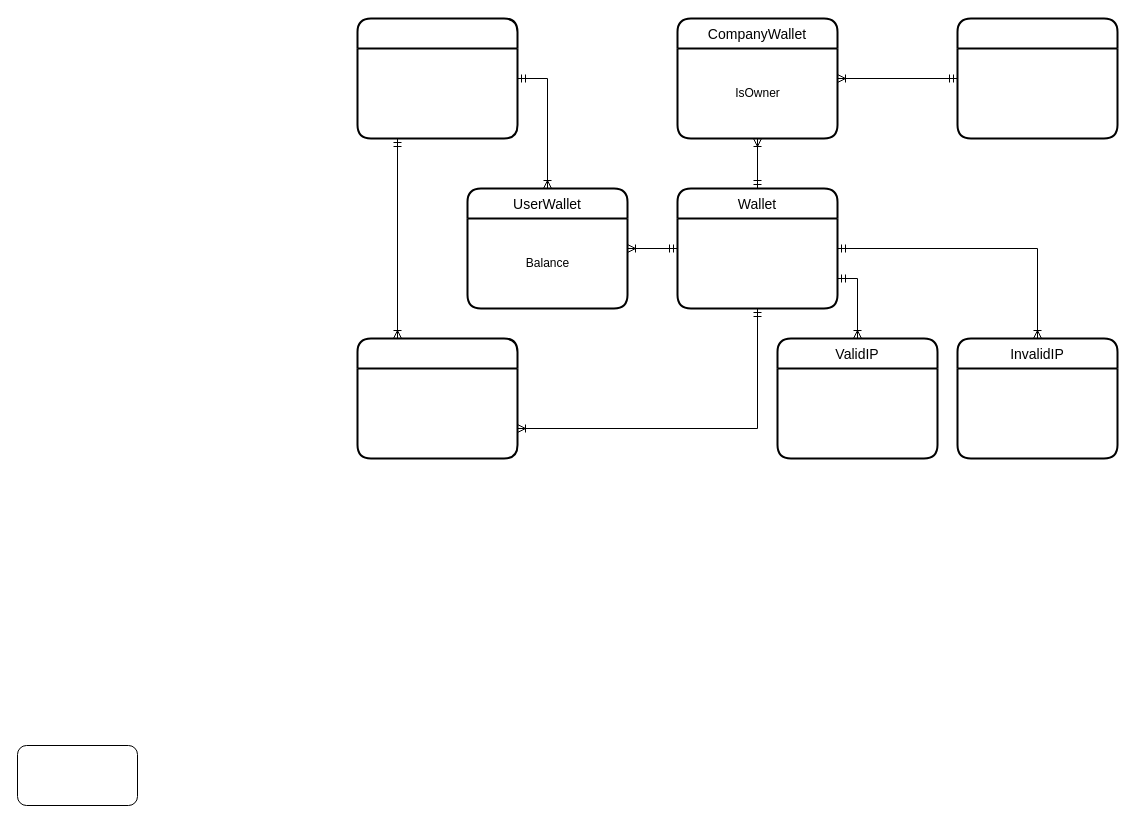
Image size: 1136x823. Some labels were removed from this diagram. The centre of each missing label's shape, as x and y in pixels:
"Company" goes at point (1037, 78).
"Transaction" goes at point (437, 398).
"User" goes at point (437, 78).
